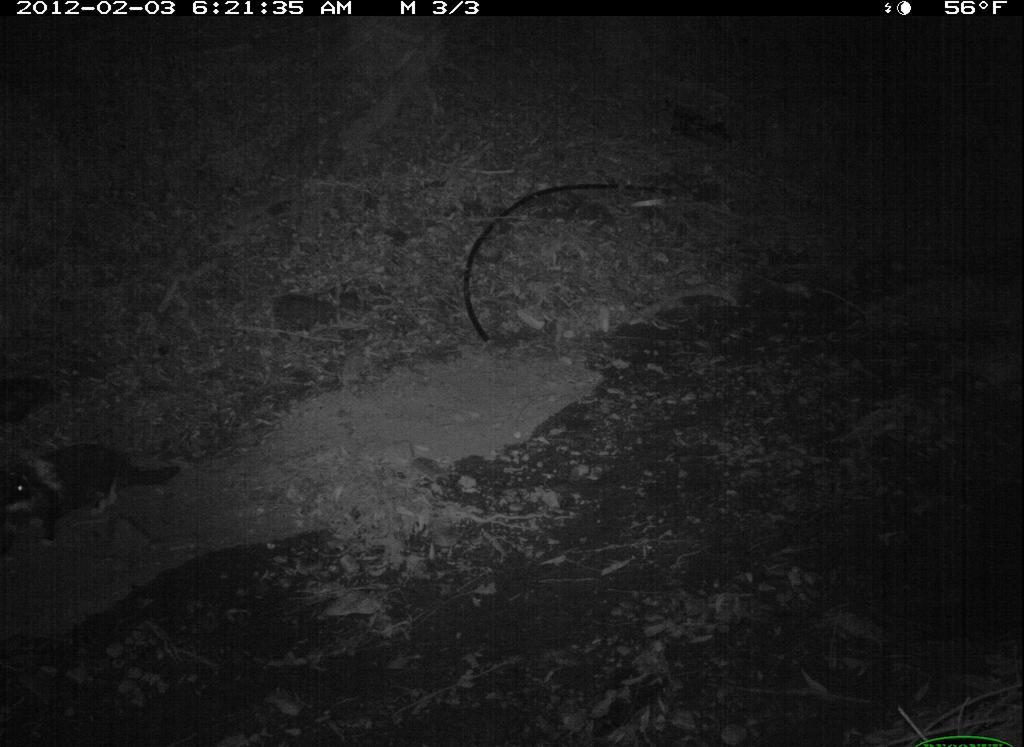cat: (1, 432, 191, 569)
